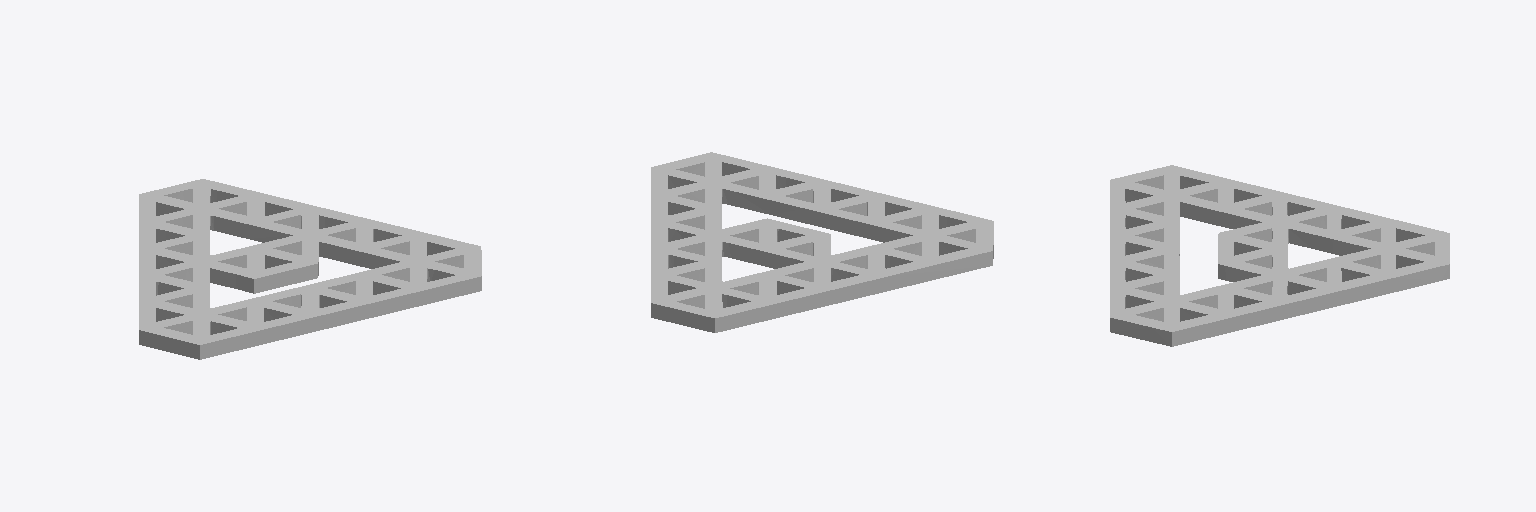
3 renders of one model, left to right at view 1: azimuth 30°, elevation 25°; view 2: azimuth 150°, elevation 25°; view 3: azimuth 270°, elevation 25°, orthographic.
Visible parts, largest first — view 1: Curve.001_CUpath42; view 2: Curve.001_CUpath42; view 3: Curve.001_CUpath42.
Boxes of the visible parts, x1,y1,x2,y2 form: Curve.001_CUpath42: [139, 179, 481, 359]; Curve.001_CUpath42: [651, 152, 993, 332]; Curve.001_CUpath42: [1110, 165, 1449, 346].
Bounding box in the file's own units: 0.4622 × 0.019 × 0.3969.